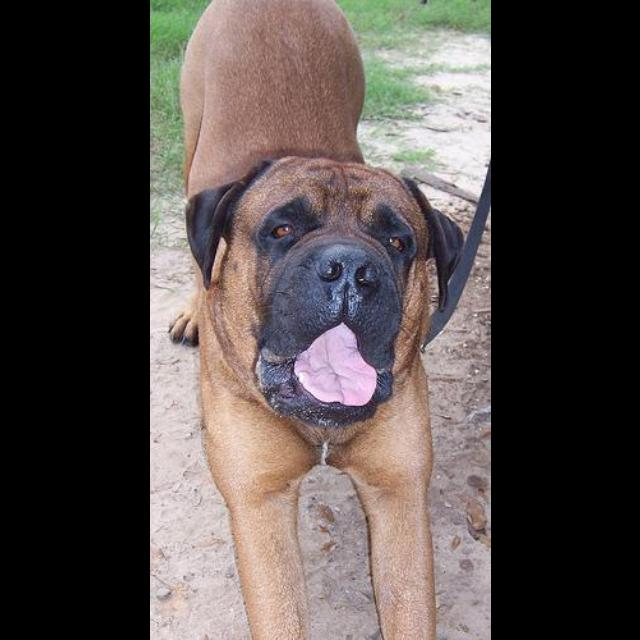bullmastiff: (168, 1, 464, 639)
